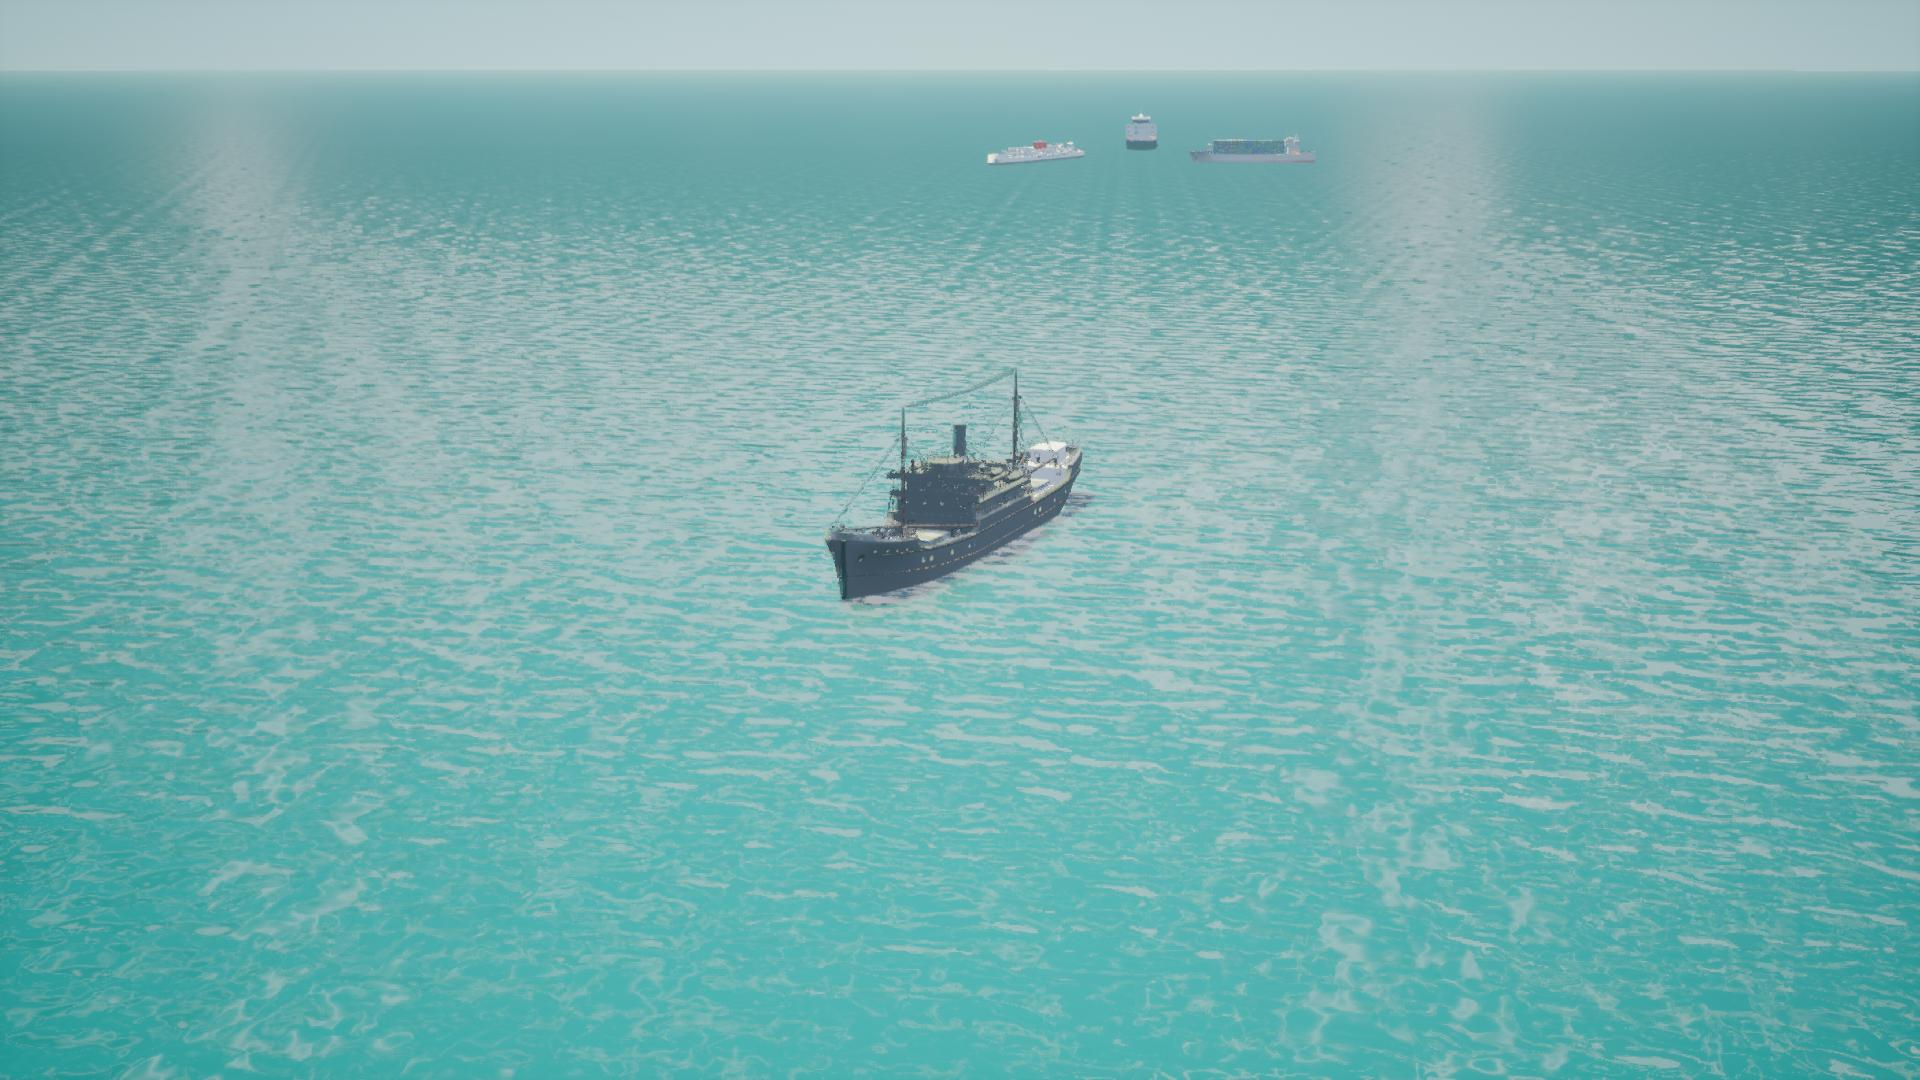Fishing Boat: (823, 384, 1083, 605), (1193, 136, 1324, 166), (982, 141, 1088, 167), (1125, 111, 1158, 149)
